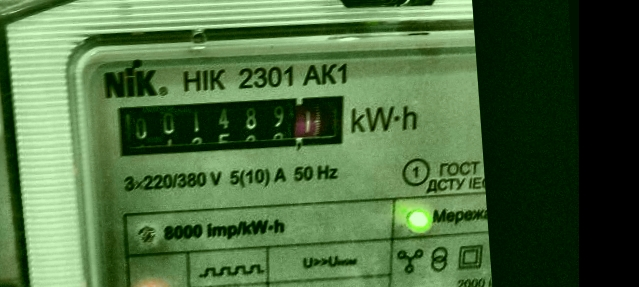0: (132, 114, 149, 140), (159, 108, 176, 134)
1: (187, 105, 203, 135), (300, 104, 314, 134)
4: (214, 104, 232, 131)
8: (240, 102, 259, 131)
9: (269, 102, 286, 128)
screen: (102, 79, 362, 173)
